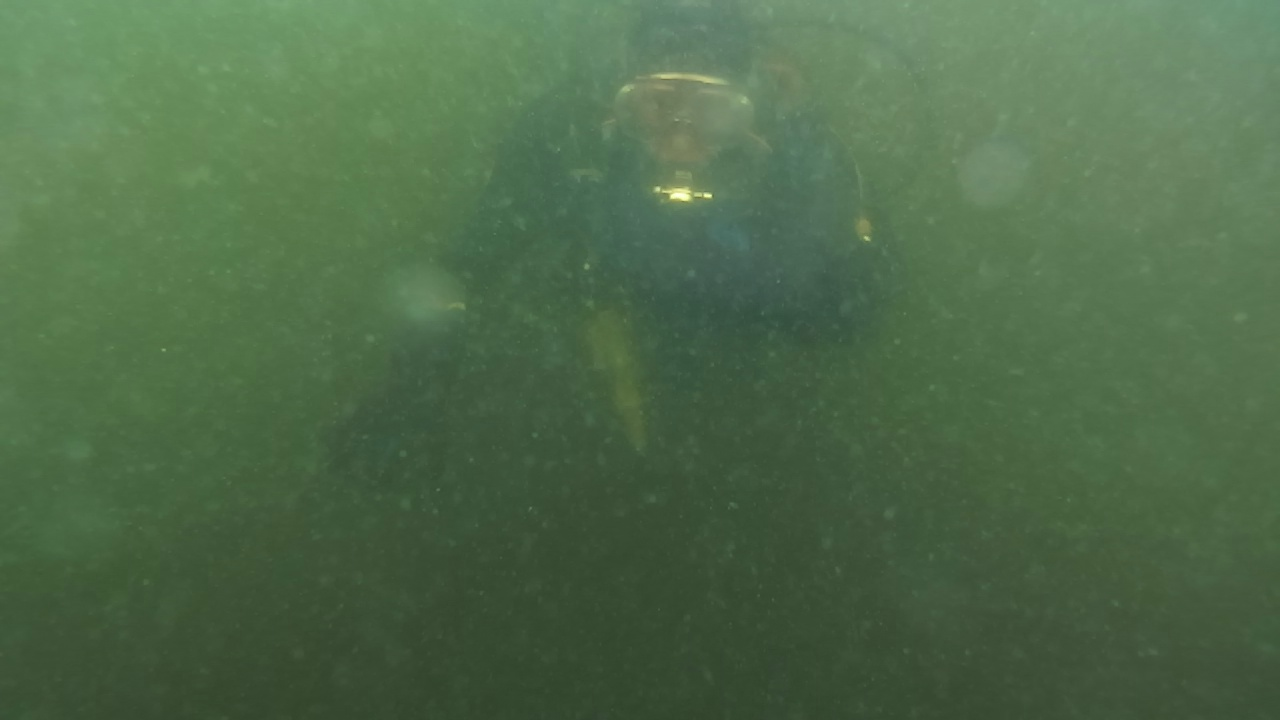Diver: (322, 8, 958, 646)
Head: (528, 42, 820, 292)
